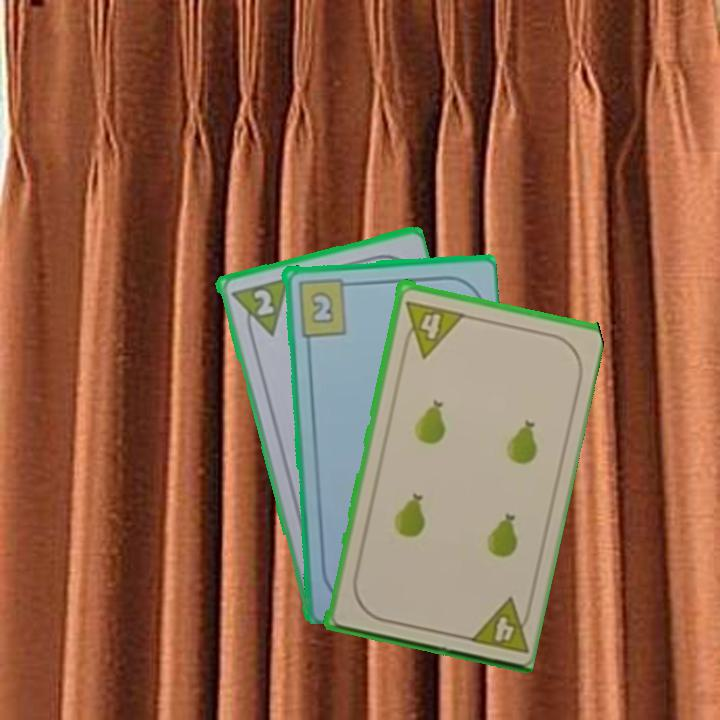2b: (294, 275, 356, 339)
2p: (226, 273, 291, 344)
4p: (463, 593, 536, 656), (398, 296, 466, 359)
